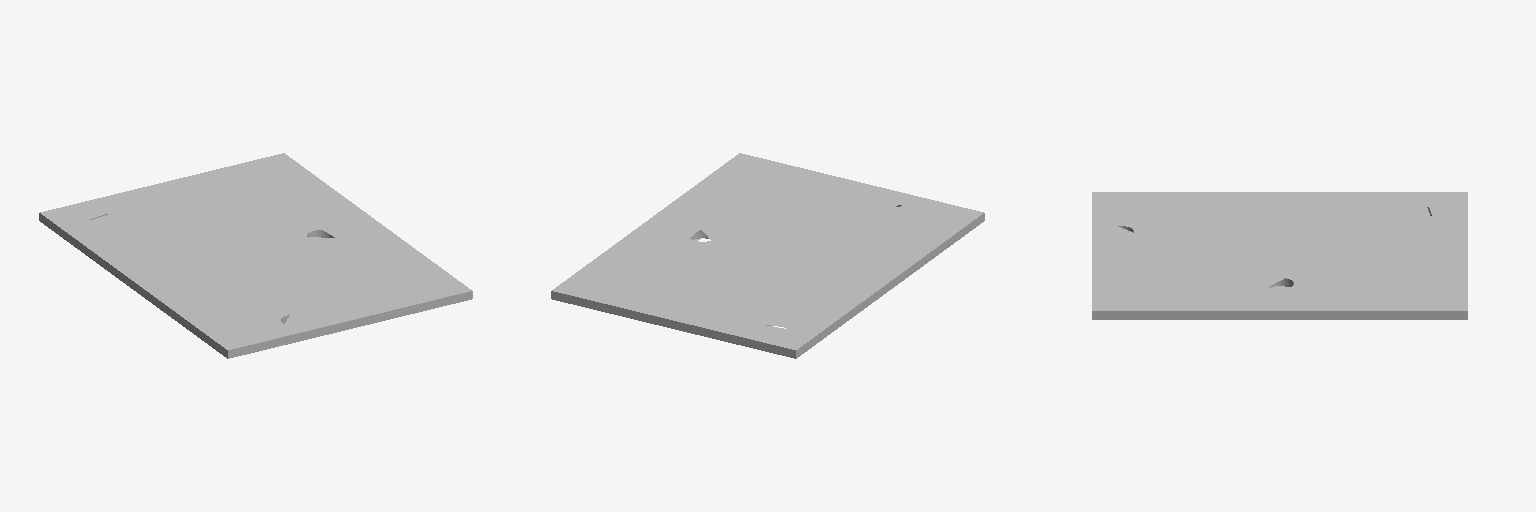
The model's file is stage2.obj.
The picture shows the model from 3 angles: view 1: azimuth 30°, elevation 25°; view 2: azimuth 150°, elevation 25°; view 3: azimuth 270°, elevation 25°; orthographic projection.
Parts seen in each view (by area): view 1: Cube_Cube.002; view 2: Cube_Cube.002; view 3: Cube_Cube.002.
Boxes of the visible parts, x1=… form: Cube_Cube.002: x1=39, y1=153, x2=472, y2=358; Cube_Cube.002: x1=551, y1=153, x2=984, y2=358; Cube_Cube.002: x1=1092, y1=192, x2=1467, y2=319.
Size of the model in its own units: 60 by 2 by 80.